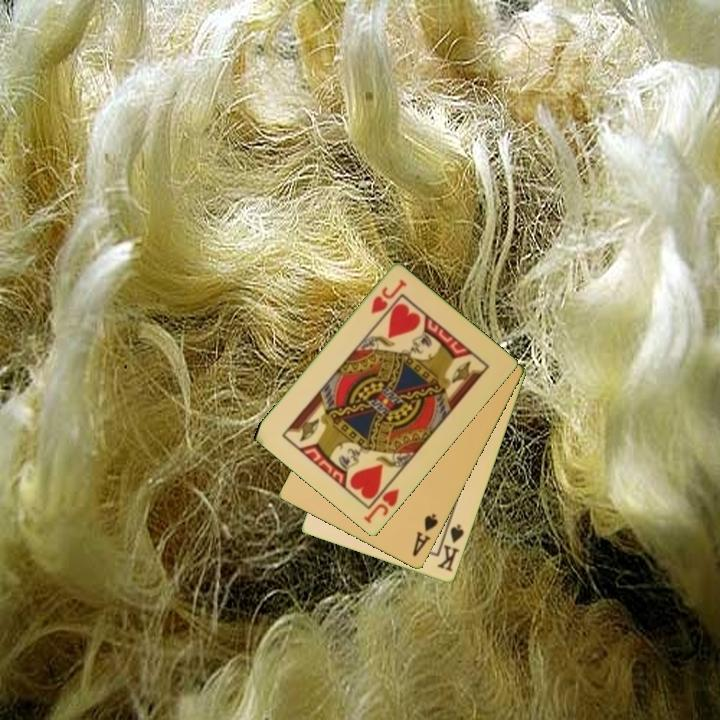As: (409, 510, 441, 560)
Jh: (360, 476, 402, 526), (367, 276, 409, 317)
Ks: (433, 518, 467, 575)
